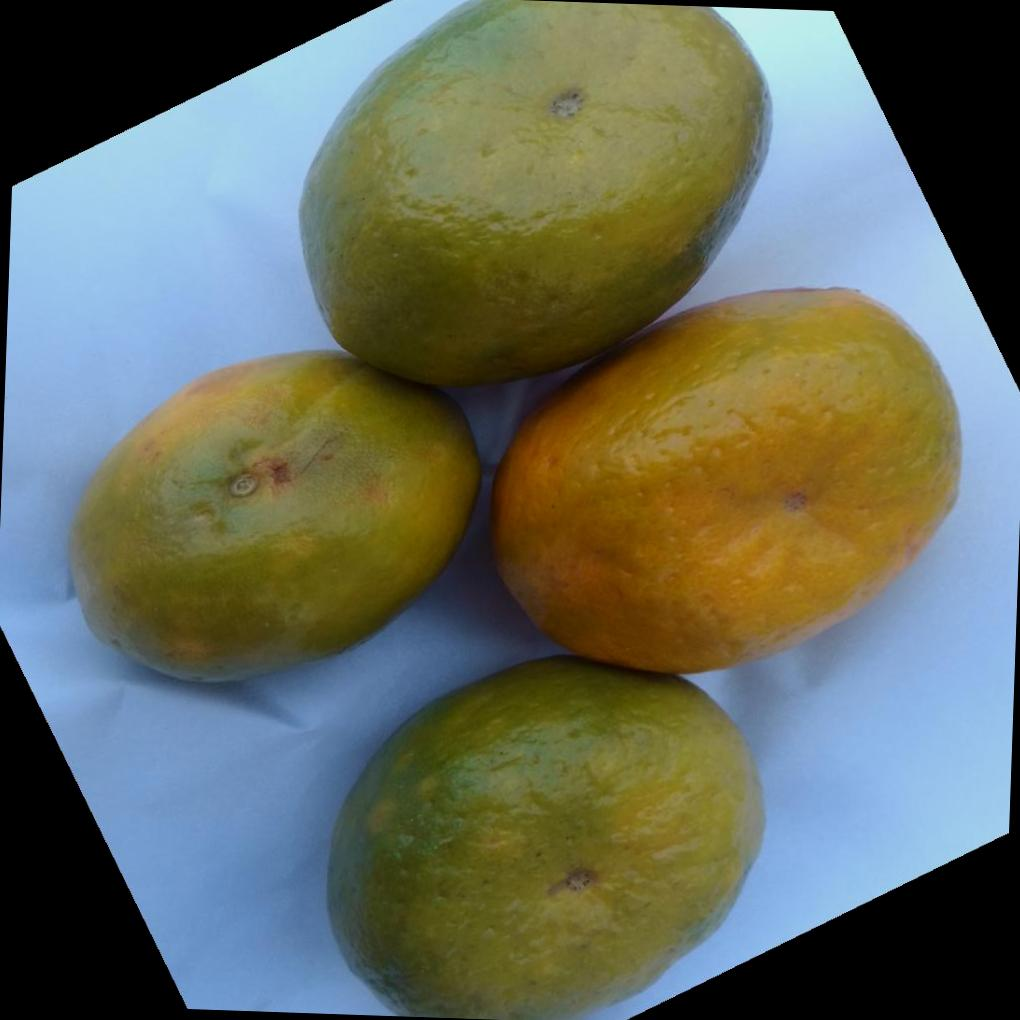FreshGuava: (64, 0, 962, 1020)
